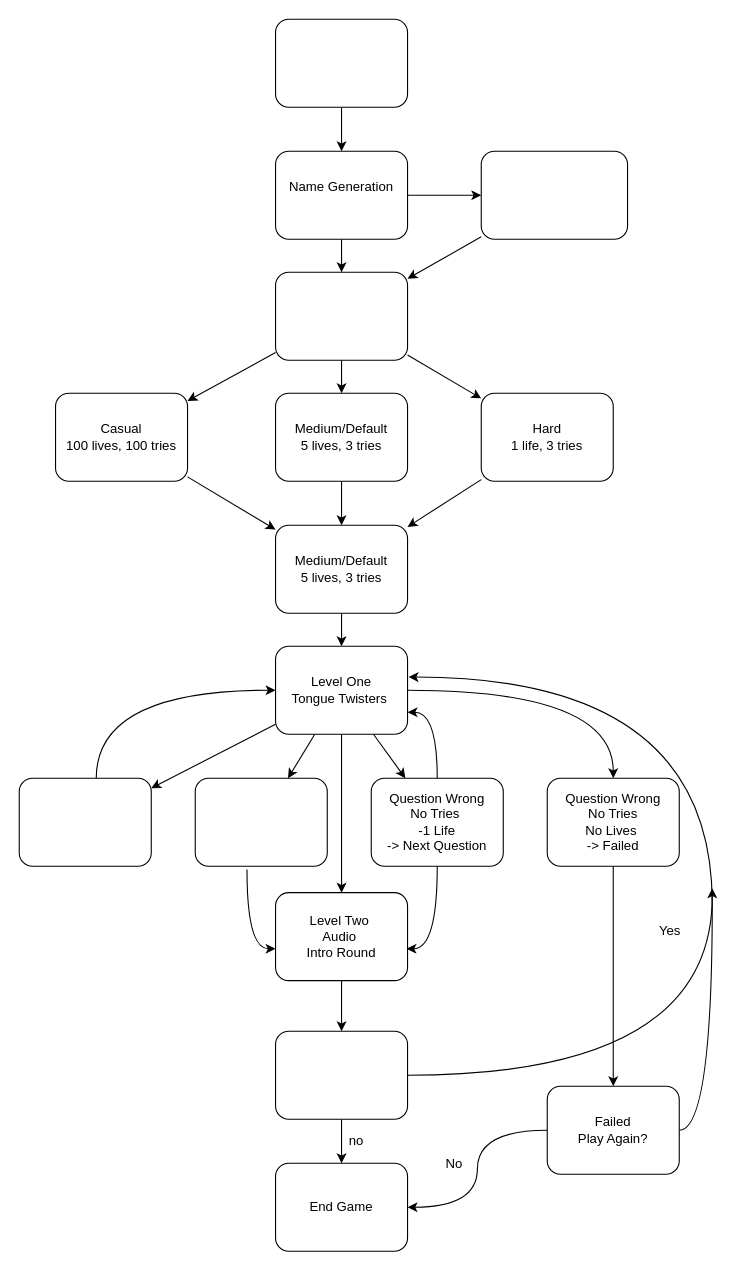
This 736x1271 diagram has some shape labels left out. Here are the shapes that lost their labels. From the top down, the centre of each, then its label:
(341,62): Welcome
(554,194): Default Name "Robby Bob Socks"
(341,315): Difficulty
(84,821): Question Wrong - 1 Try Try again
(260,821): Question Right + 1 Point ->Next Question
(341,1074): Complete Play again?
